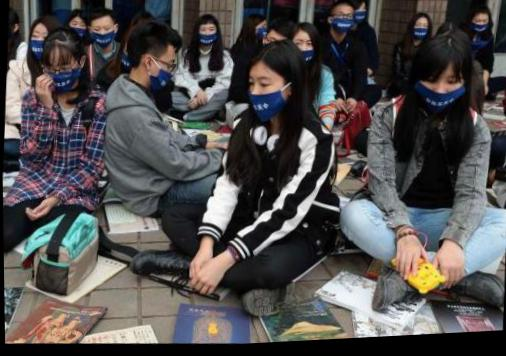OK: (44, 59, 78, 95), (29, 27, 53, 59), (331, 12, 355, 37), (469, 20, 489, 41), (350, 7, 368, 30), (249, 24, 268, 45), (69, 18, 86, 40), (412, 24, 429, 46)
WRONG: (416, 68, 467, 120), (247, 69, 290, 127), (144, 50, 178, 97), (289, 37, 316, 68), (90, 20, 116, 50), (199, 26, 217, 50)
